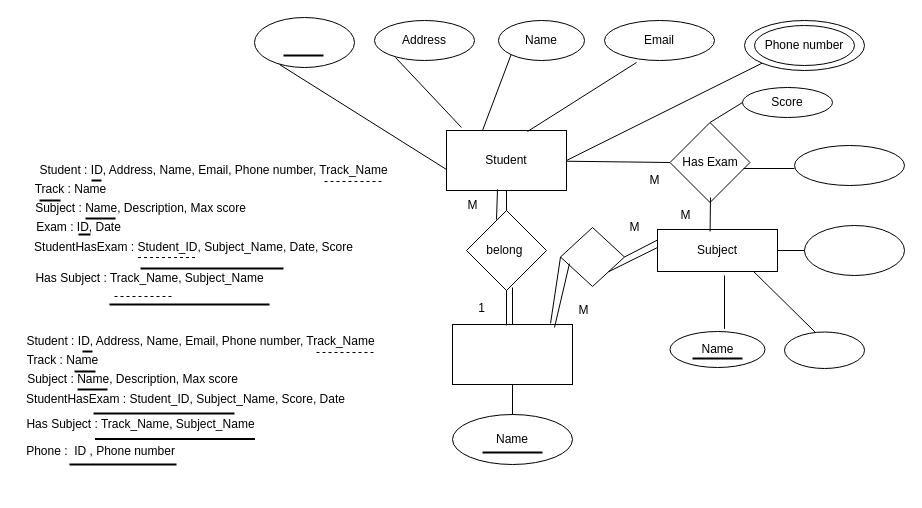
The diagram is 922 pixels wide and 508 high, and some of its shapes have lost their labels. Here are the shapes that lost their labels. From the top down, the centre of each, then its label:
pixel 304 42: ID
pixel 849 165: Date
pixel 592 256: Has subject
pixel 854 250: Max score
pixel 512 354: Track
pixel 824 349: Description
